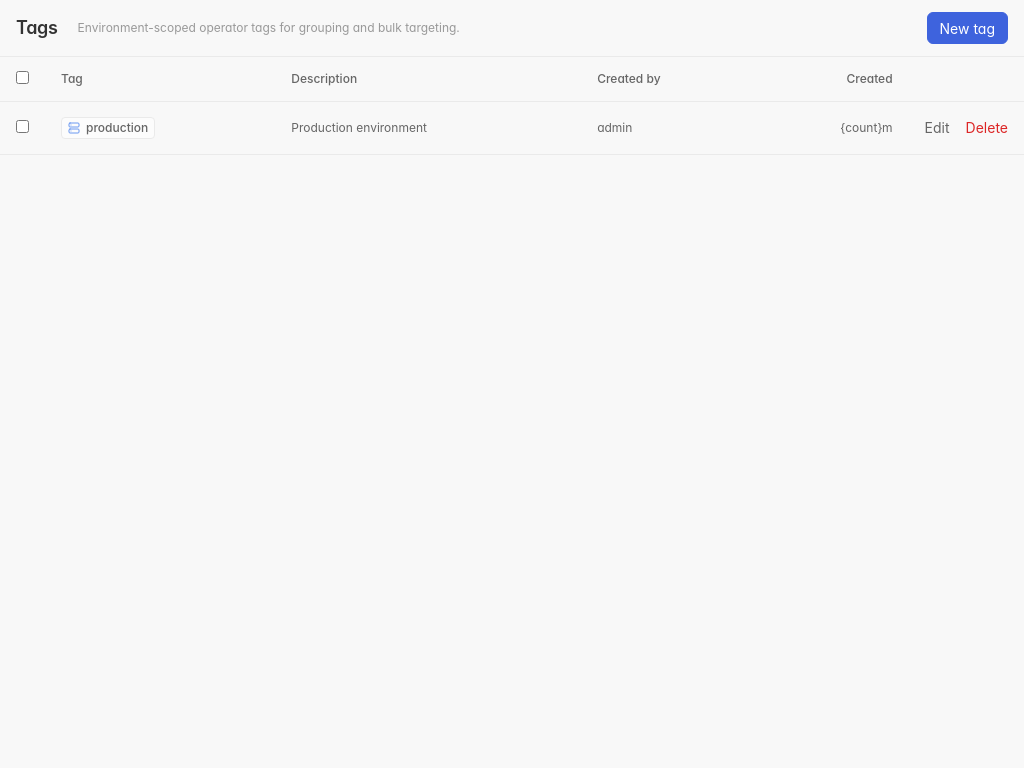
Test: TagsPage › shows a name conflict after confirming Mark sensitive
The width and height of the screenshot is (1024, 768).
Click the button "Edit".
click(937, 128)  # box 917,114 -> 958,142
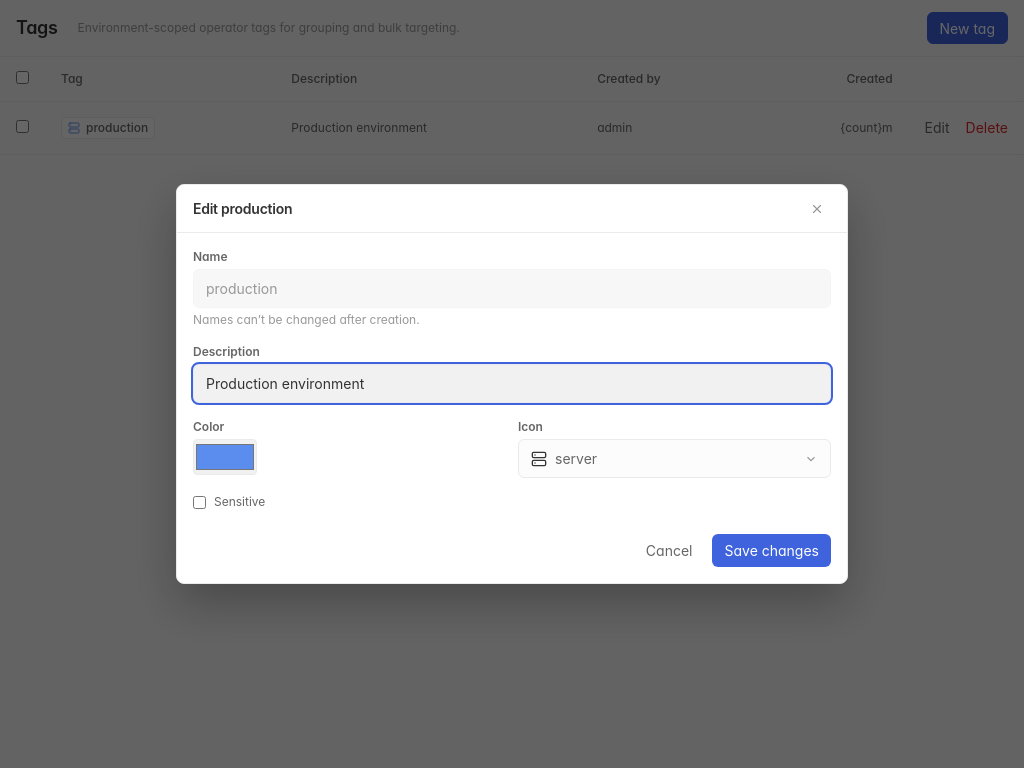
Expected: the dialog is shown
Click the checkbox labelled "Sensitive".
click(200, 502)  # box 193,496 -> 206,508
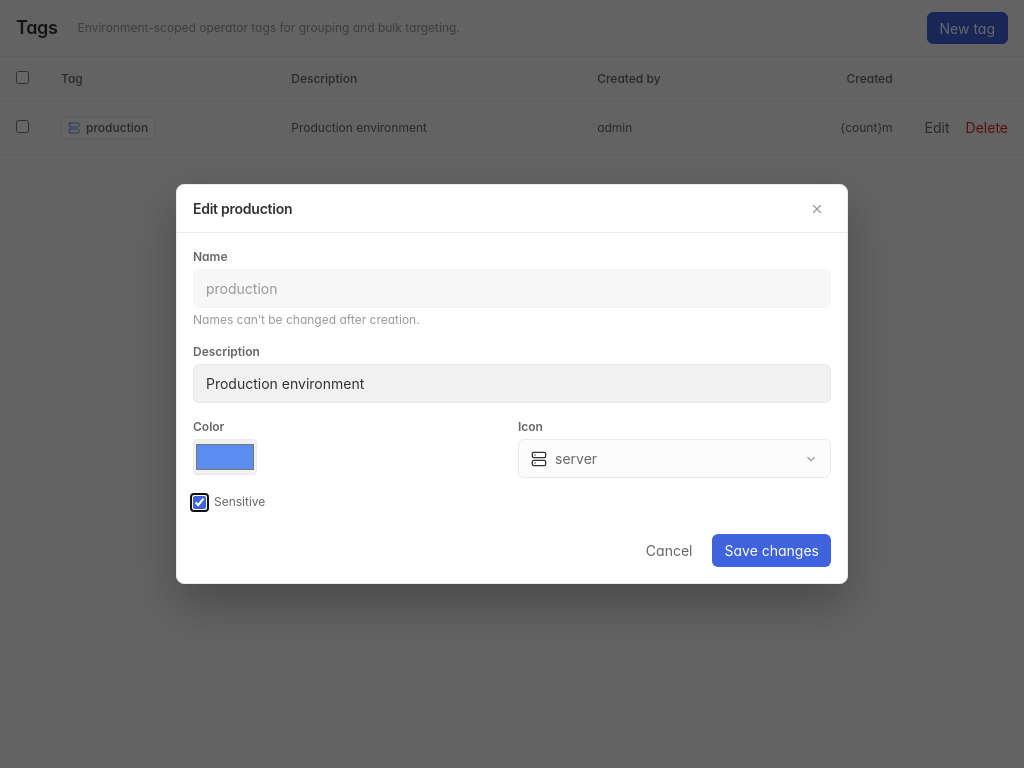
Click the button "Save changes".
click(772, 550)  # box 712,534 -> 831,567
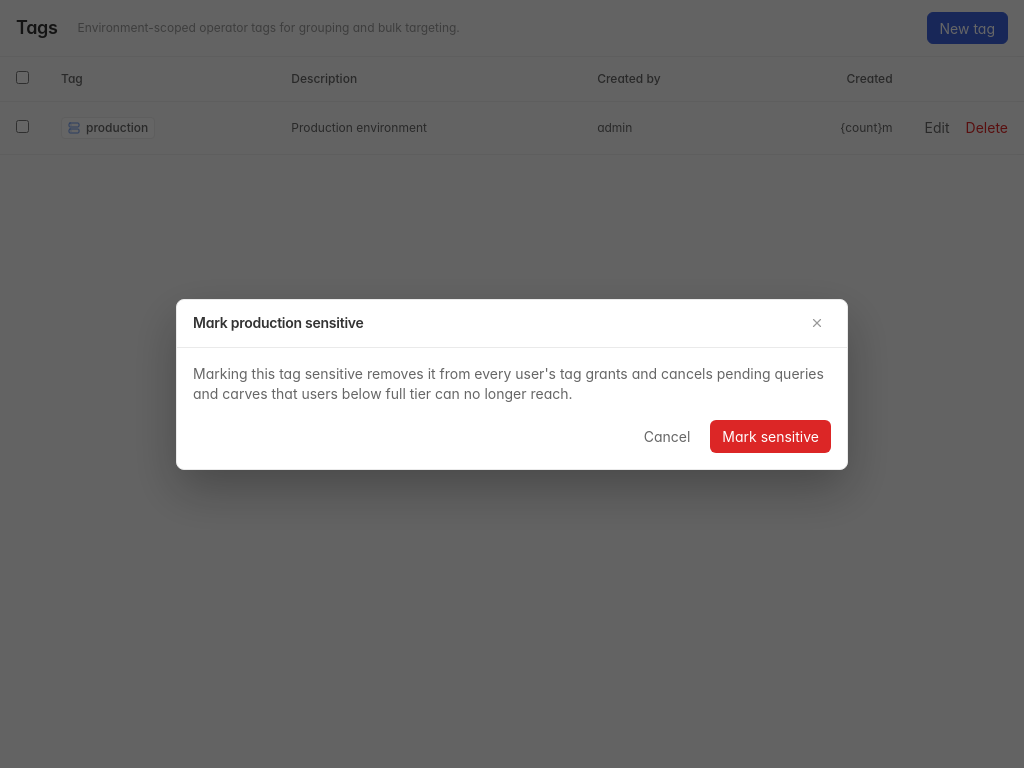
Click the button "Mark sensitive".
click(771, 436)  # box 710,420 -> 831,452
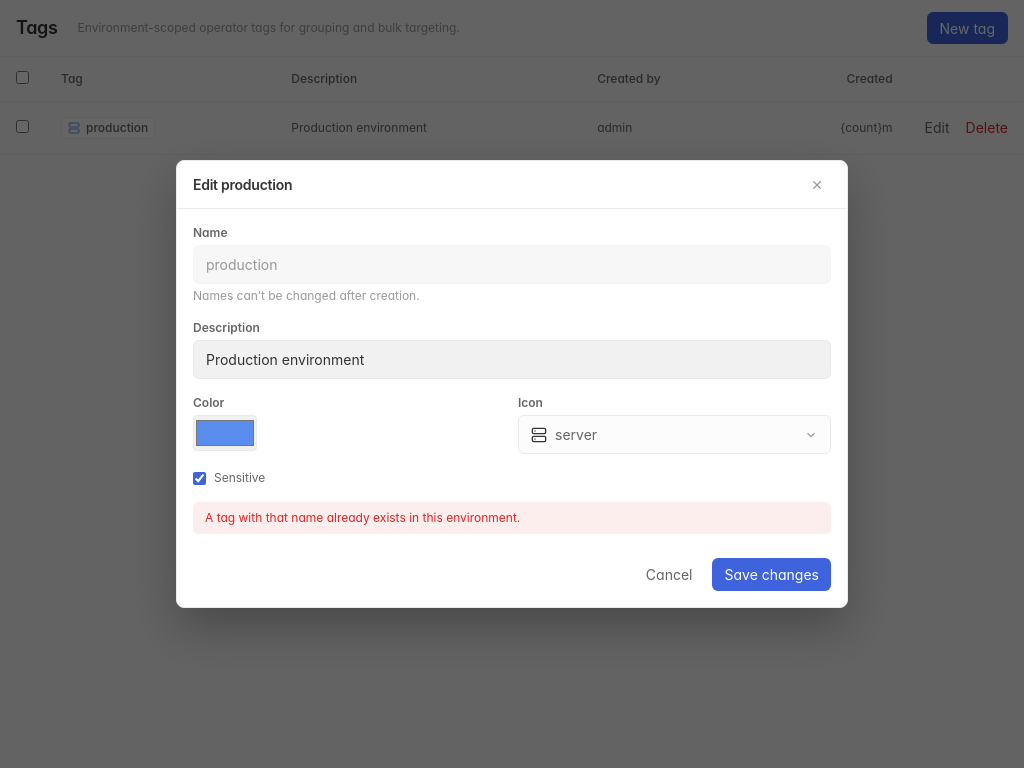
Expected: the text "A tag with that name already exists in this environment." is shown, 193,502 -> 831,534
